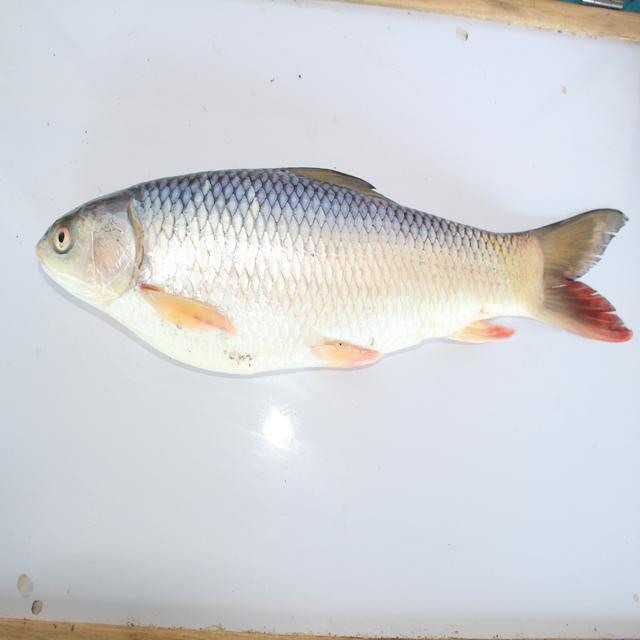Mori: (29, 148, 640, 377)
